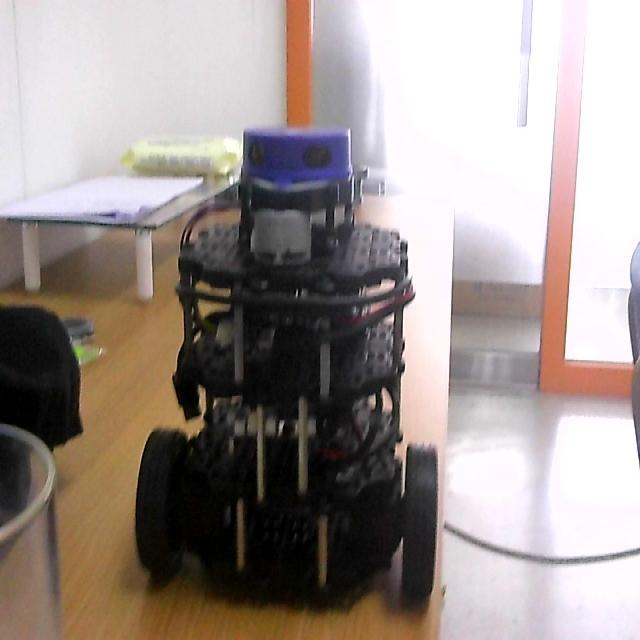turtle: (135, 129, 439, 611)
